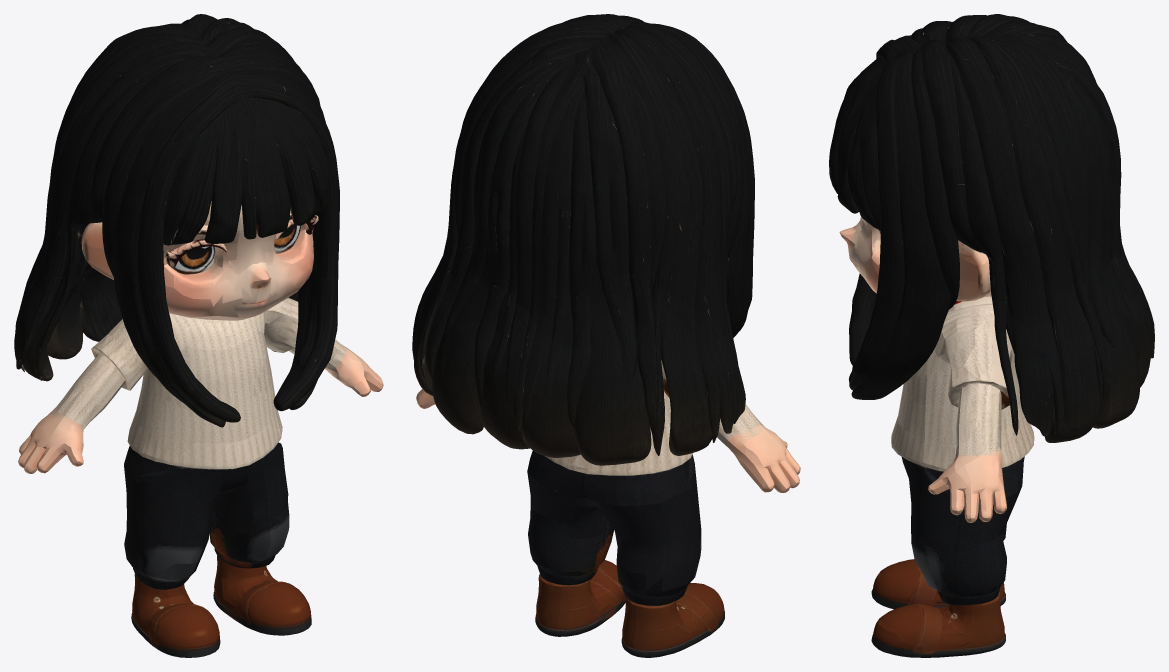
The model's file is retex_winter_01a12009-4909-7054-9a01-69bbe96fca73.glb.
The picture shows the model from 3 angles, left to right: view 1: azimuth 30°, elevation 25°; view 2: azimuth 150°, elevation 25°; view 3: azimuth 270°, elevation 25°; orthographic projection. The views are drawn at different scales.
Size of the model in its own units: 1.23 by 1.9 by 0.9461.
1 material, 1 textured.
